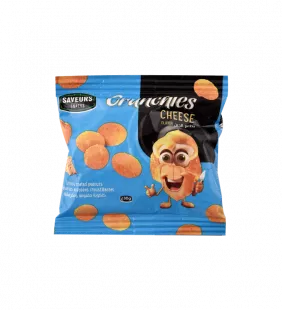SAVEURS: (44, 68, 236, 244)
